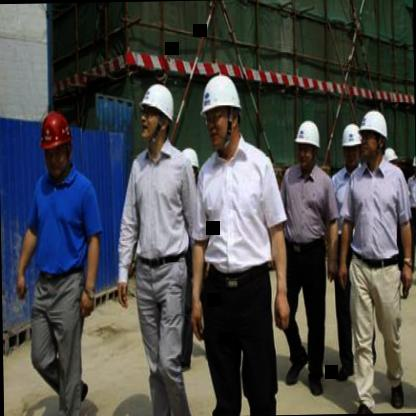helmet: (201, 75, 246, 150), (138, 81, 180, 149), (38, 108, 75, 180), (294, 118, 323, 170), (360, 108, 387, 159), (337, 124, 362, 168), (410, 150, 416, 180)
